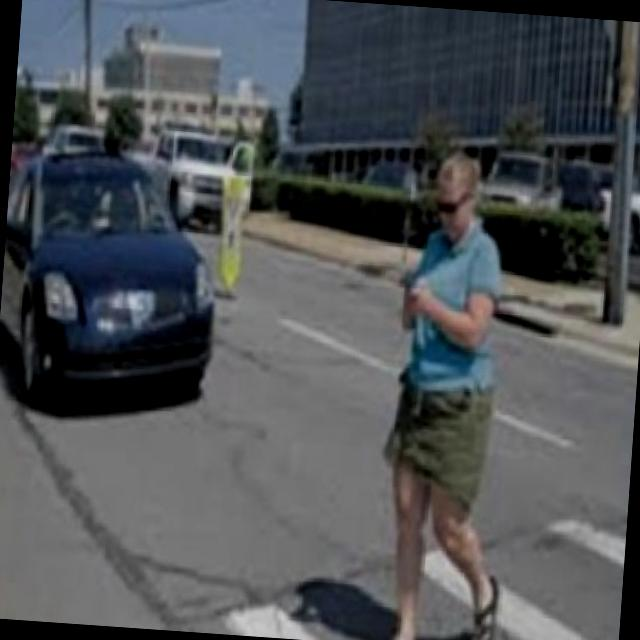Person: (376, 143, 545, 640)
